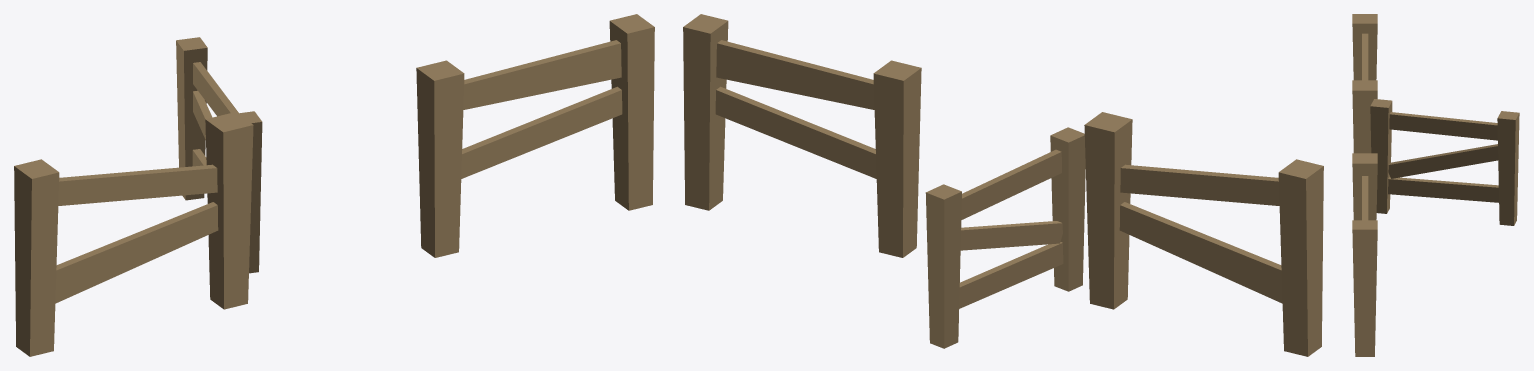
Rendered from model_polytope_fence_gate.fbx.
3 views of the same model, side by side, from view 1: azimuth 30°, elevation 25°; view 2: azimuth 150°, elevation 25°; view 3: azimuth 270°, elevation 25° (orthographic). The views are drawn at different scales.
Parts seen in each view (by area): view 1: model_polytope_fence_gate; view 2: model_polytope_fence_gate; view 3: model_polytope_fence_gate.
Part boxes in pixels (bbox=[...]): model_polytope_fence_gate: bbox=[14, 14, 654, 356]; model_polytope_fence_gate: bbox=[683, 14, 1323, 356]; model_polytope_fence_gate: bbox=[1352, 14, 1519, 356].
Bounding box in the file's own units: 699 × 192 × 229.
